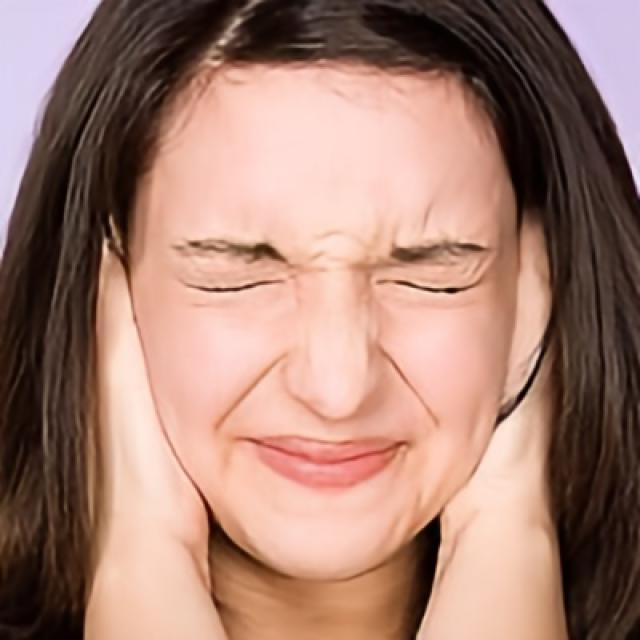disgust: (121, 52, 524, 580)
